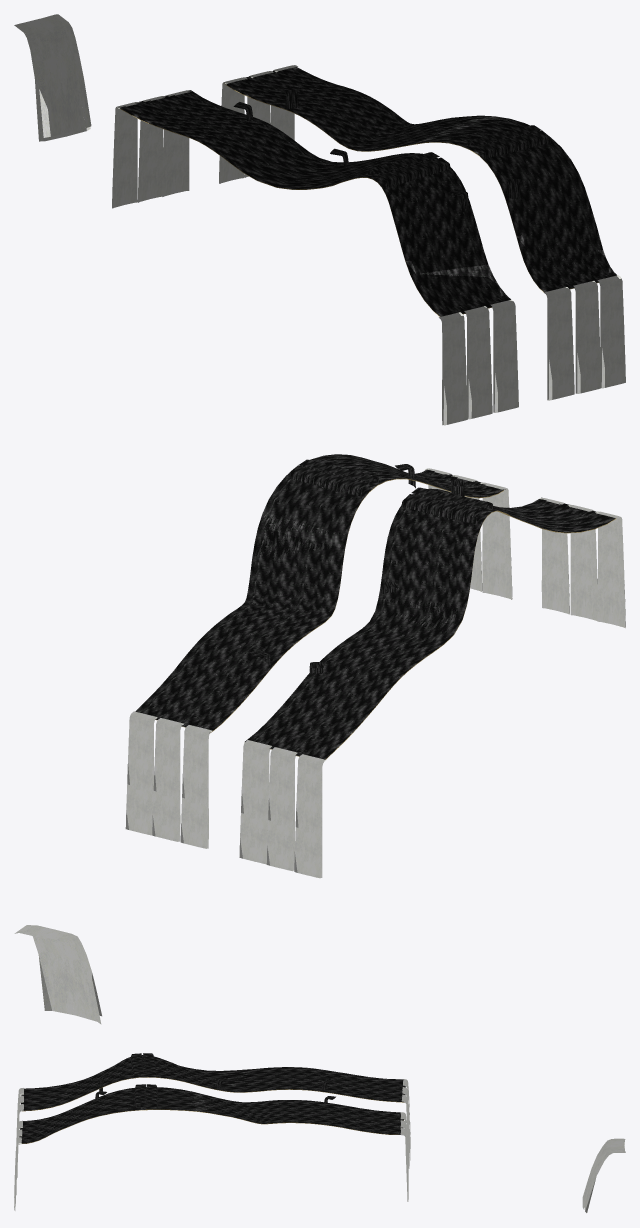
Rendered from stg110_MotWater_19.obj.
3 views of the same model, one above another, from view 1: azimuth 30°, elevation 25°; view 2: azimuth 150°, elevation 25°; view 3: azimuth 270°, elevation 25° (orthographic). The views are drawn at different scales.
Visible parts, largest first — view 1: polygon6, polygon14, polygon10, polygon19, polygon12, polygon8, polygon17, polygon5, polygon13, polygon15, polygon9, polygon11; view 2: polygon6, polygon18, polygon16, polygon11, polygon13, polygon15, polygon9, polygon8, polygon7, polygon5; view 3: polygon6, polygon5, polygon12, polygon8, polygon9, polygon18, polygon13.
Part boxes in pixels (x1,y1,x2,y2): polygon6: (120, 67, 616, 316); polygon14: (545, 275, 625, 400); polygon10: (439, 299, 518, 425); polygon19: (112, 92, 189, 208); polygon12: (16, 14, 91, 137); polygon8: (379, 130, 550, 187); polygon17: (219, 66, 297, 183); polygon5: (120, 83, 598, 316); polygon13: (14, 14, 90, 141); polygon15: (544, 281, 622, 400); polygon9: (371, 125, 540, 173); polygon11: (439, 306, 515, 425); polygon6: (135, 454, 615, 759); polygon18: (239, 740, 324, 878); polygon16: (125, 711, 211, 848); polygon11: (541, 500, 625, 628); polygon13: (14, 932, 101, 1024); polygon15: (424, 469, 512, 599); polygon9: (288, 465, 481, 520); polygon8: (299, 459, 493, 509); polygon7: (403, 494, 483, 523); polygon5: (155, 478, 616, 759); polygon6: (19, 1055, 405, 1143); polygon5: (22, 1077, 404, 1143); polygon12: (582, 1138, 624, 1209); polygon8: (130, 1053, 145, 1108); polygon9: (143, 1053, 157, 1107); polygon18: (402, 1079, 410, 1168); polygon13: (584, 1139, 625, 1212).
Bounding box in the file's own units: 1170 × 1076 × 4164.
